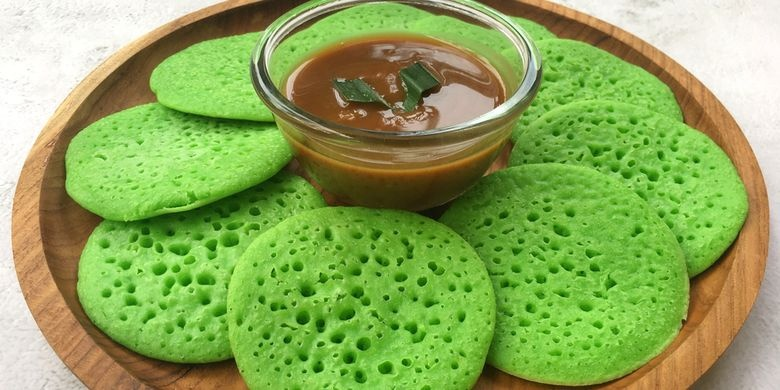srabi: (453, 151, 699, 379), (245, 219, 487, 390)
